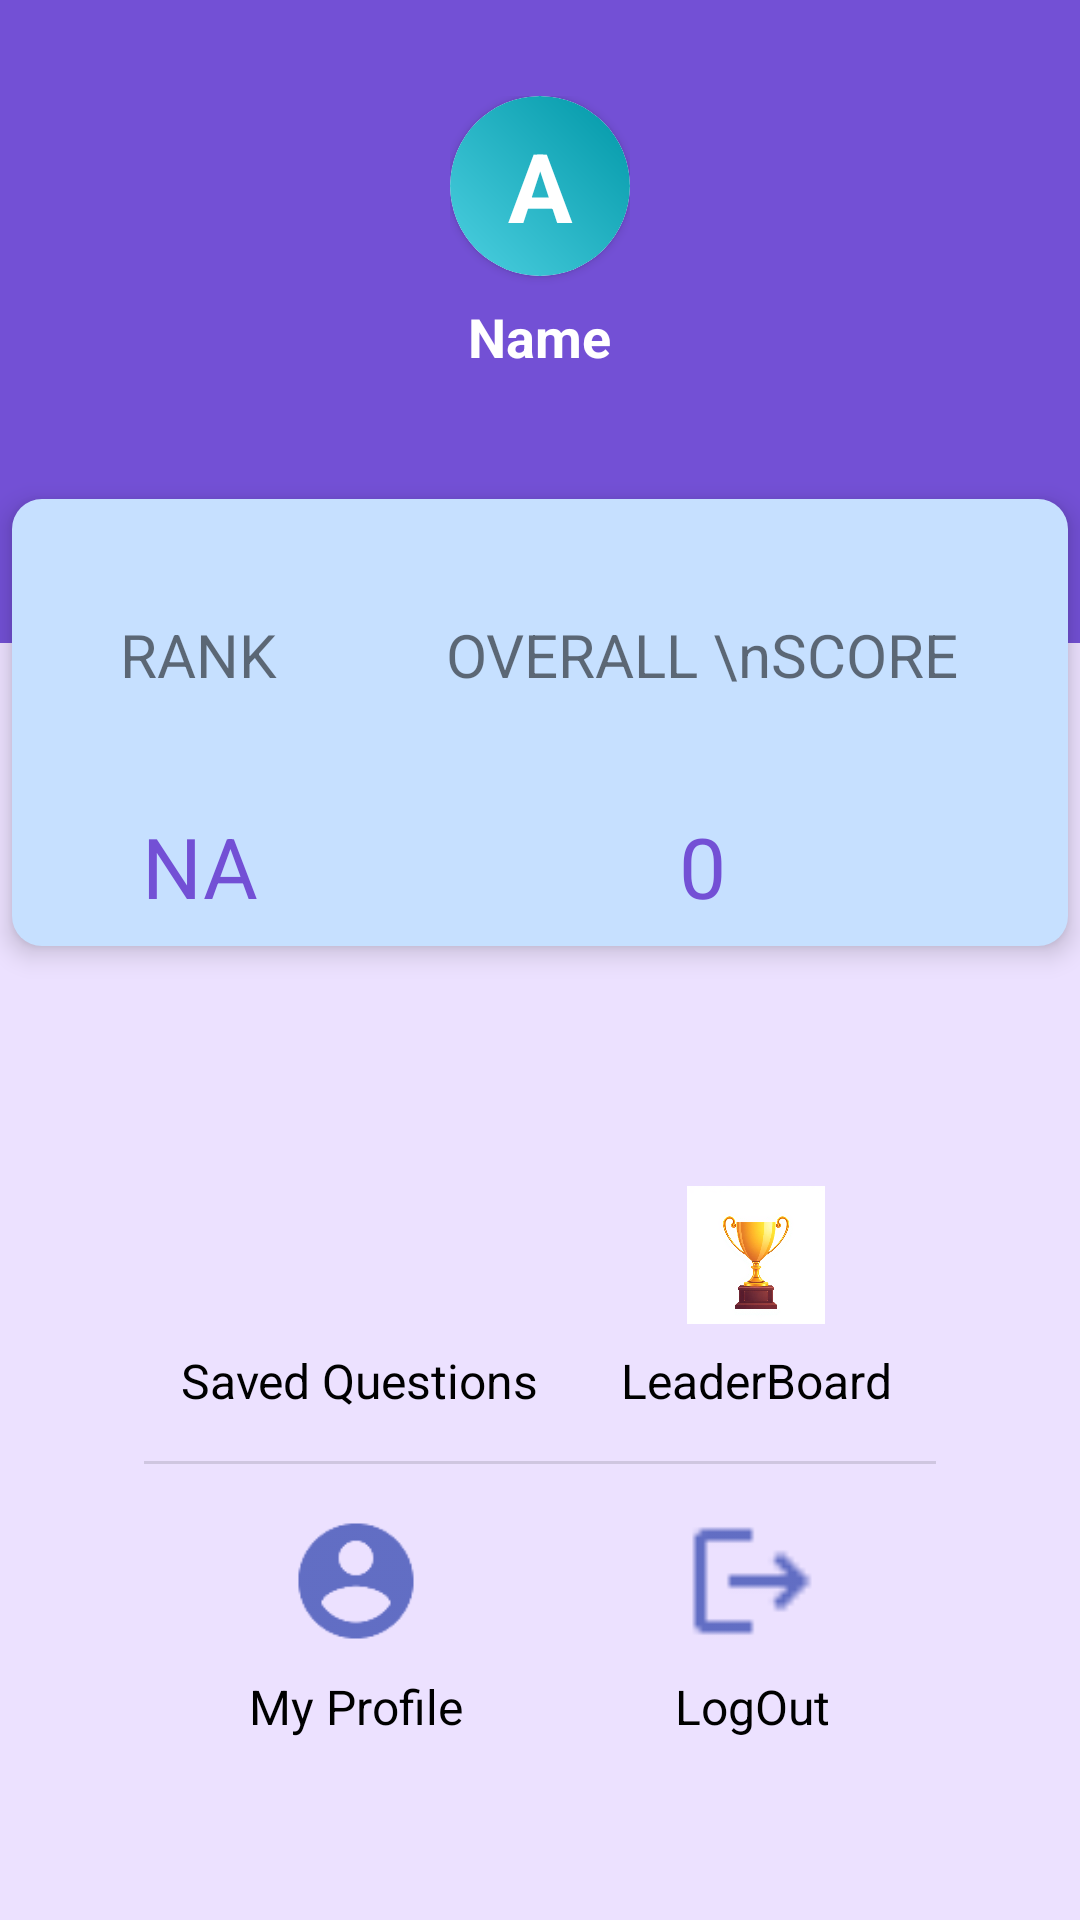

Named icons in this screenshot (1080x1920) and their bounding boxes, bbox=[x1, y1, x2, y2]:
account: bbox=[298, 1523, 414, 1639]
trophy: bbox=[687, 1186, 825, 1324]
